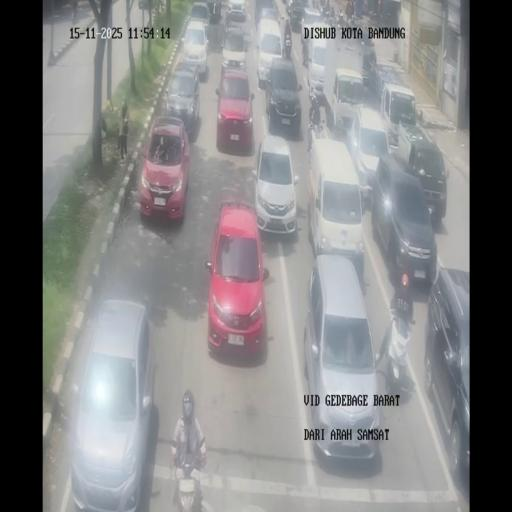car: (68, 298, 156, 506), (304, 256, 380, 463), (426, 268, 470, 492), (204, 201, 266, 358), (308, 136, 364, 276), (139, 117, 191, 222), (396, 124, 448, 220), (253, 132, 299, 237), (348, 106, 390, 198), (215, 68, 254, 154), (164, 64, 200, 134), (380, 84, 417, 150), (256, 18, 284, 87), (220, 24, 247, 74), (307, 42, 327, 100), (360, 35, 377, 86), (188, 1, 211, 36), (286, 0, 308, 30), (258, 5, 278, 28), (227, 0, 245, 21)
motorcycle: (377, 306, 416, 396), (172, 444, 206, 510), (308, 110, 324, 150), (332, 114, 349, 142), (308, 86, 318, 113), (284, 33, 292, 58), (336, 6, 346, 26), (302, 39, 308, 69), (321, 2, 331, 20), (346, 6, 355, 26), (70, 0, 78, 22)
truck: (317, 23, 369, 132)
